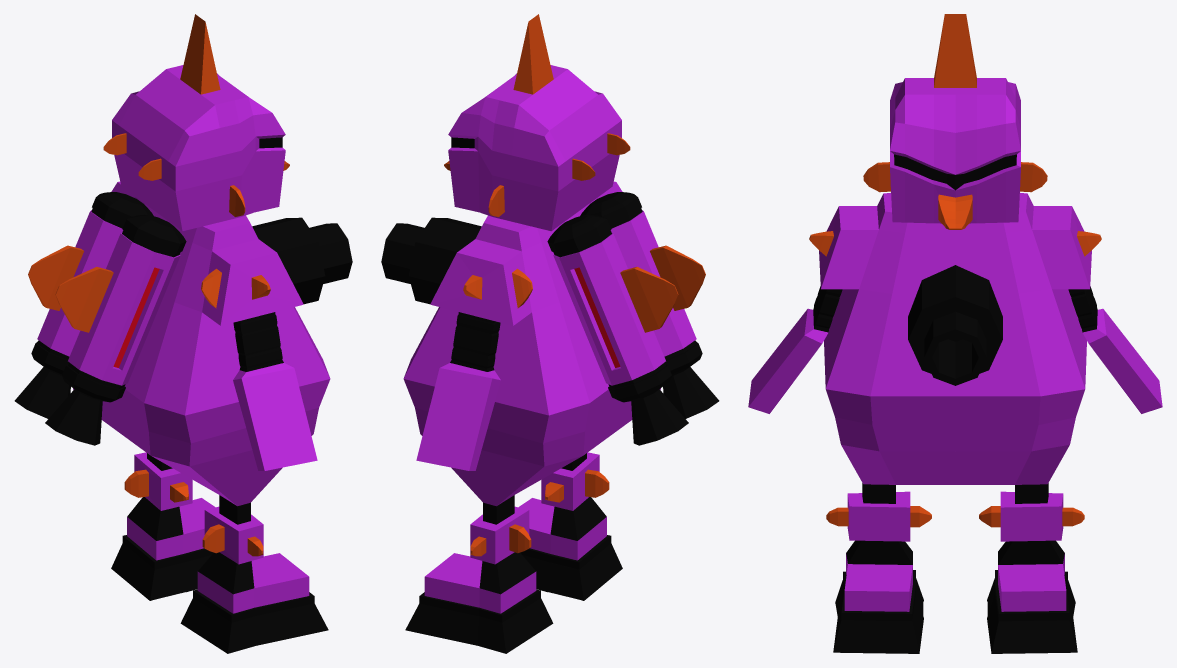
File: Flying_Robo_Penguin_selected_on.fbx
The picture shows the model from 3 angles, left to right: view 1: azimuth 30°, elevation 25°; view 2: azimuth 150°, elevation 25°; view 3: azimuth 270°, elevation 25°; orthographic projection. The views are drawn at different scales.
Visible parts, largest first — view 1: Flying Penguin; view 2: Flying Penguin; view 3: Flying Penguin.
Part boxes in pixels (x1,y1,x2,y2): Flying Penguin: [14, 14, 352, 653]; Flying Penguin: [381, 14, 719, 653]; Flying Penguin: [748, 14, 1162, 653].
Bounding box in the file's own units: 274 × 507 × 315.
